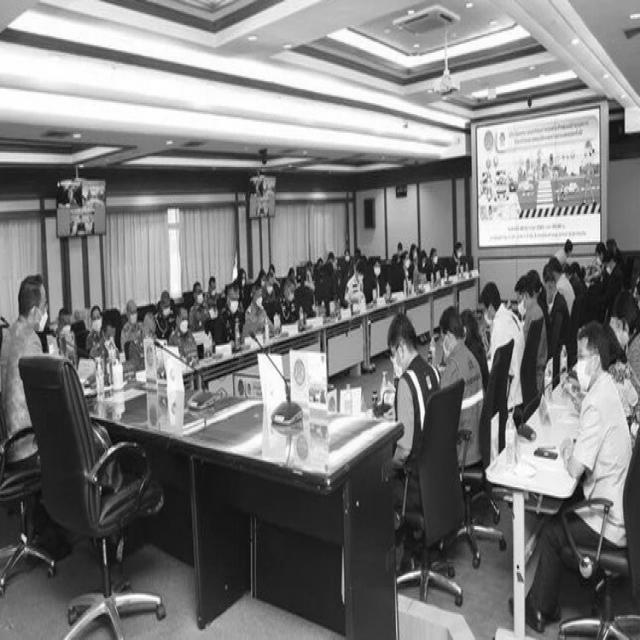table: (21, 320, 406, 534)
